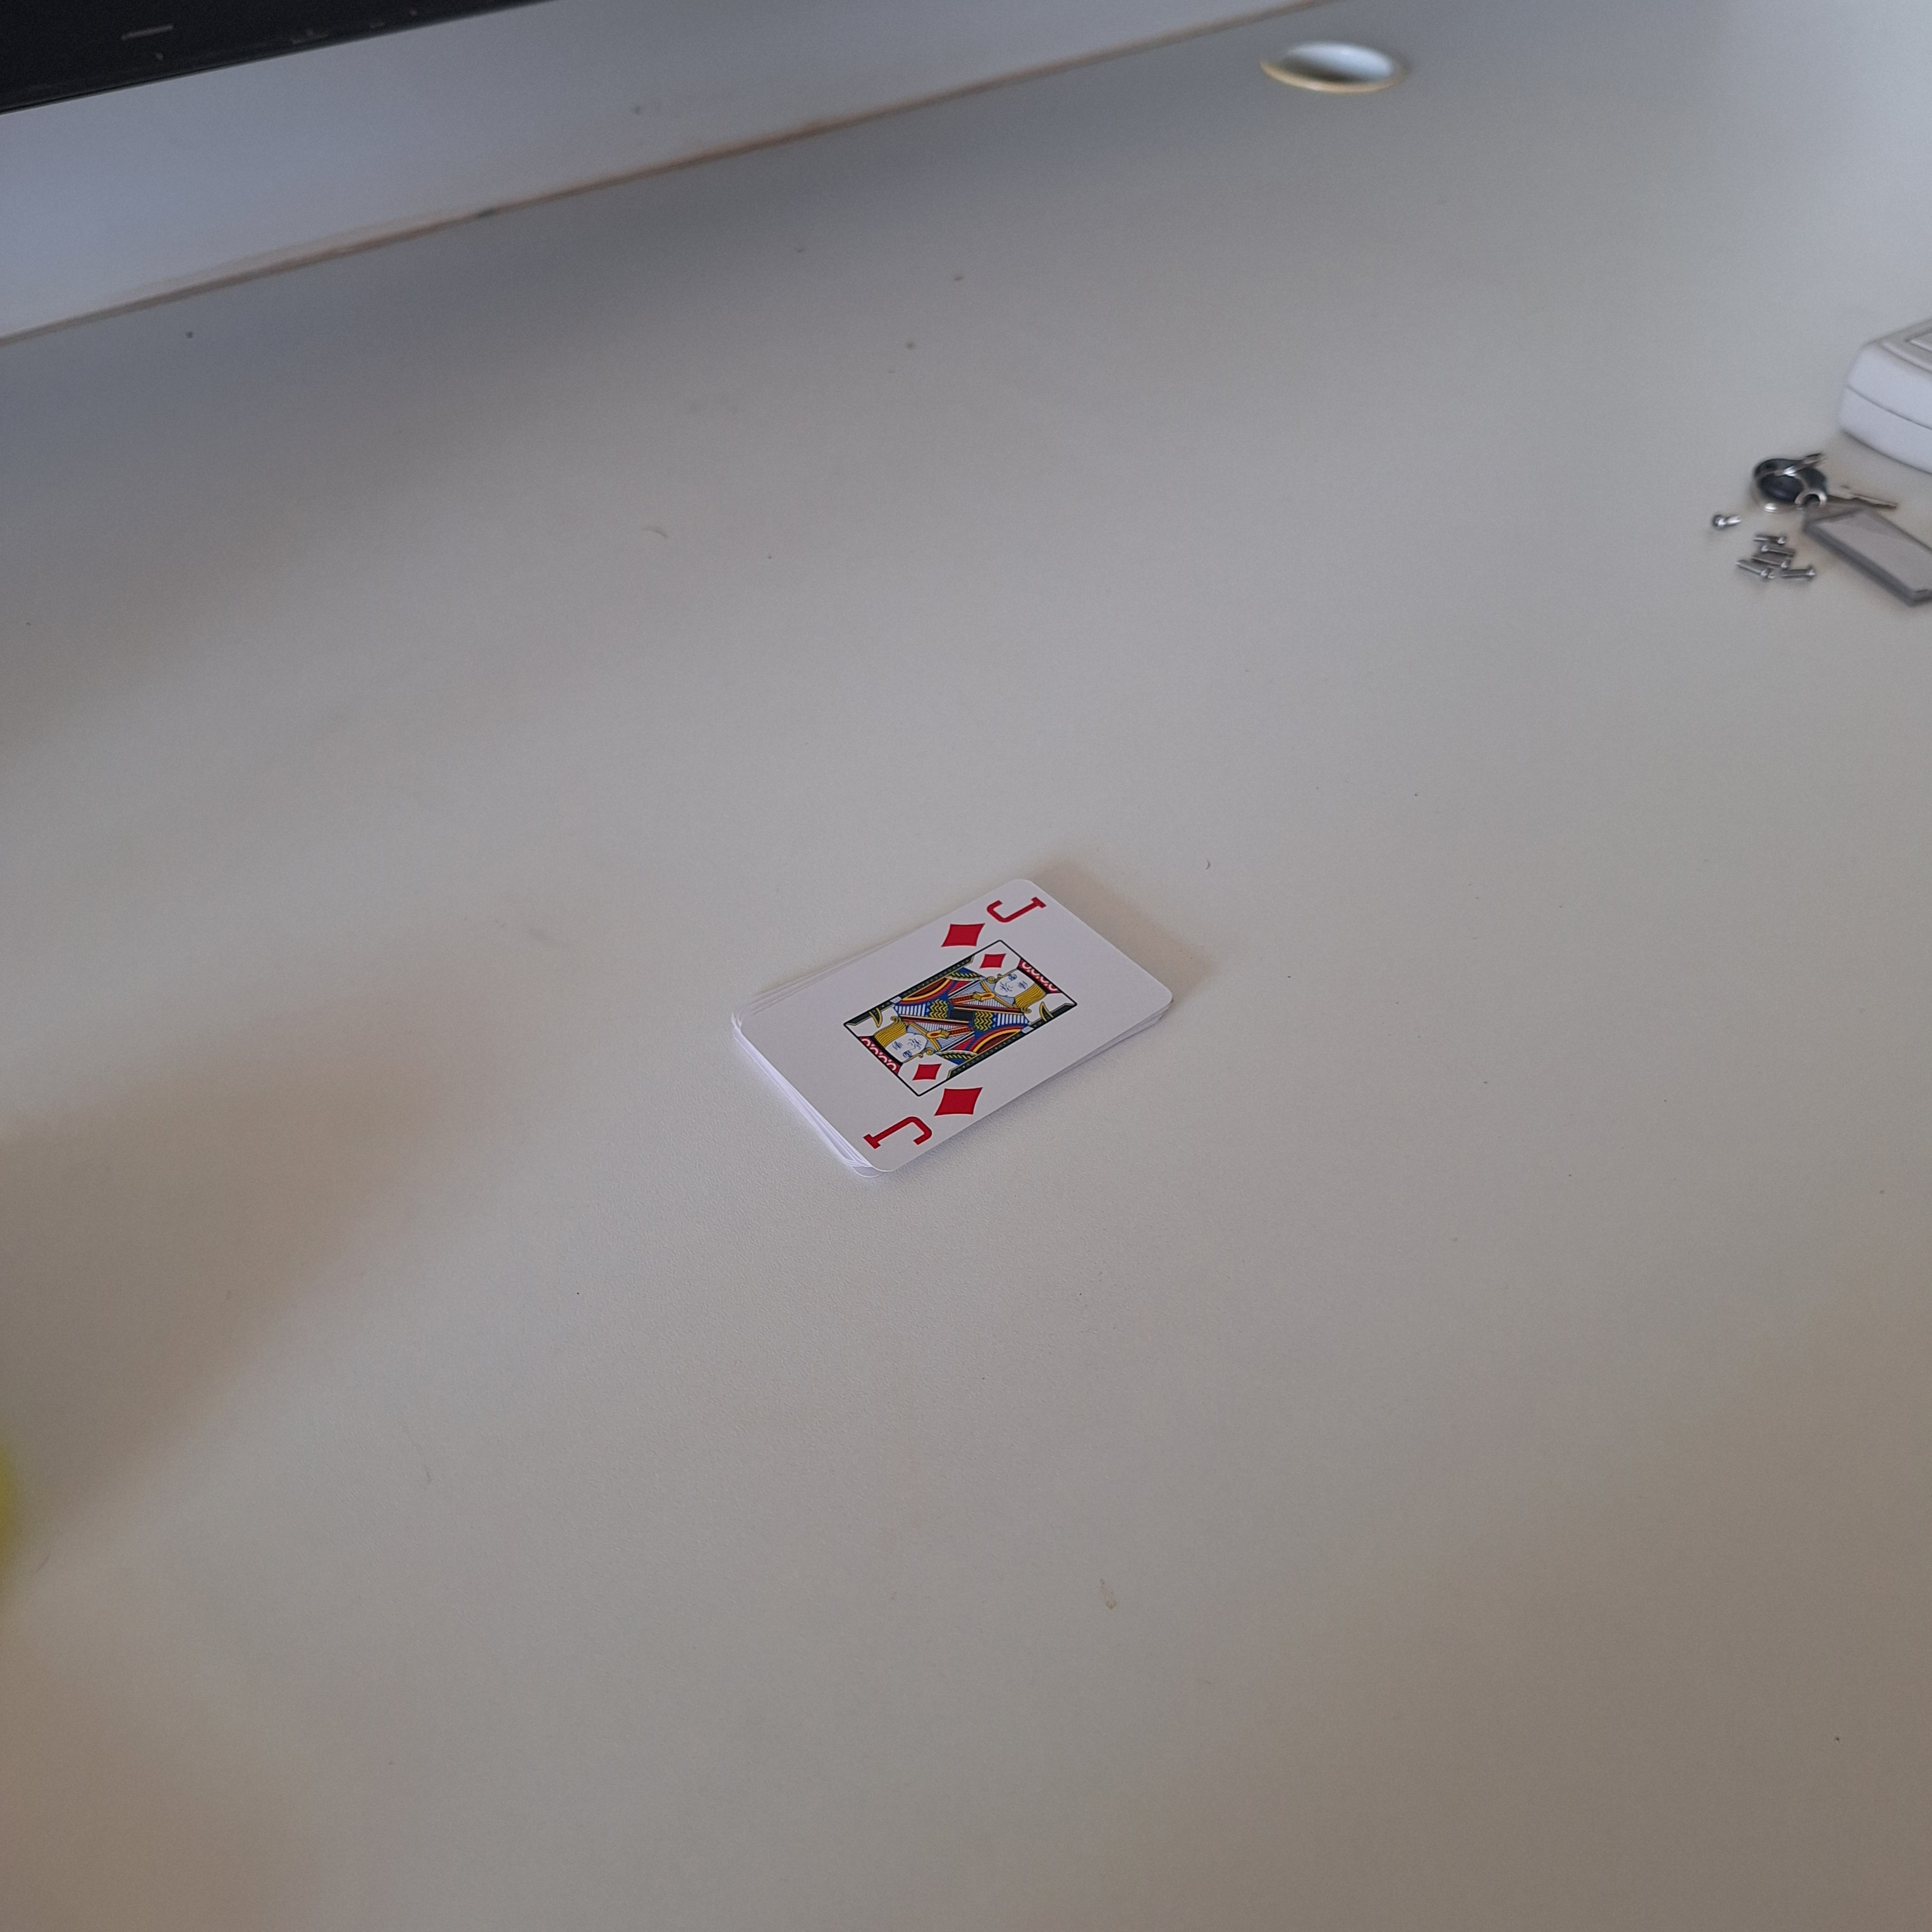JO: (855, 1083, 985, 1159), (936, 892, 1049, 950)
